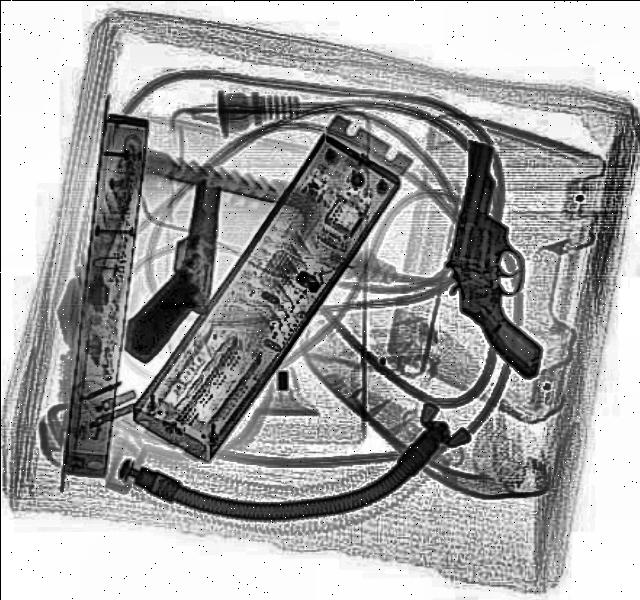Gun: (425, 143, 579, 380)
